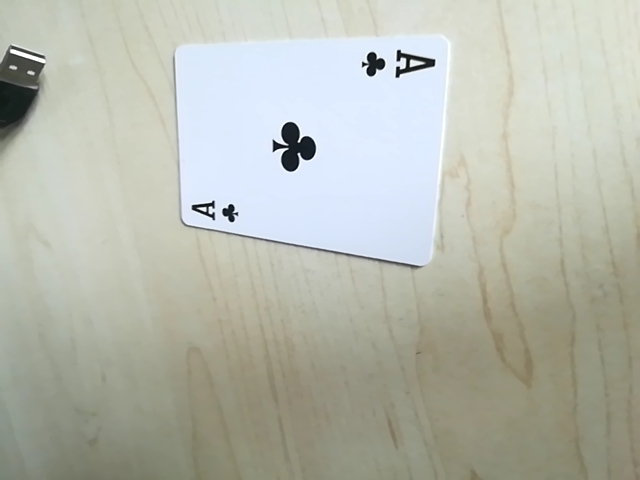mh a: (356, 42, 439, 89), (183, 191, 245, 229)
